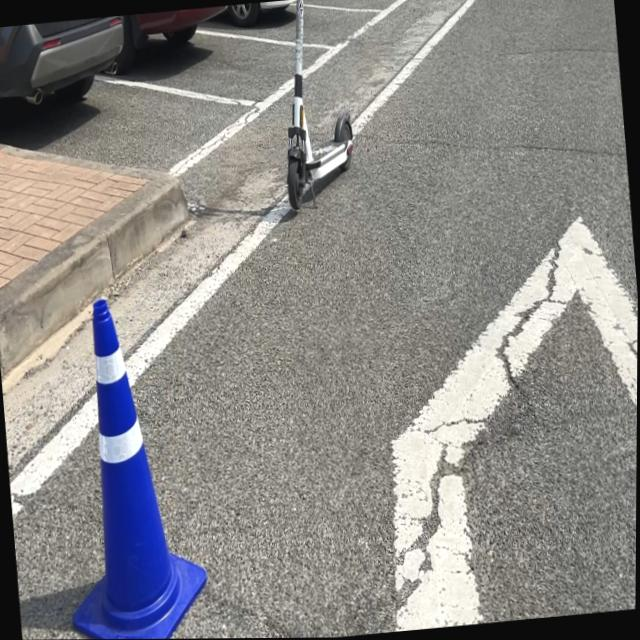b_rub: (73, 298, 207, 639)
